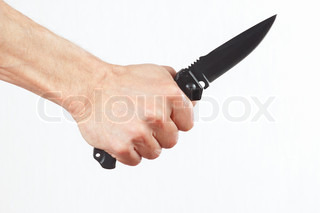knife: (129, 13, 282, 135)
